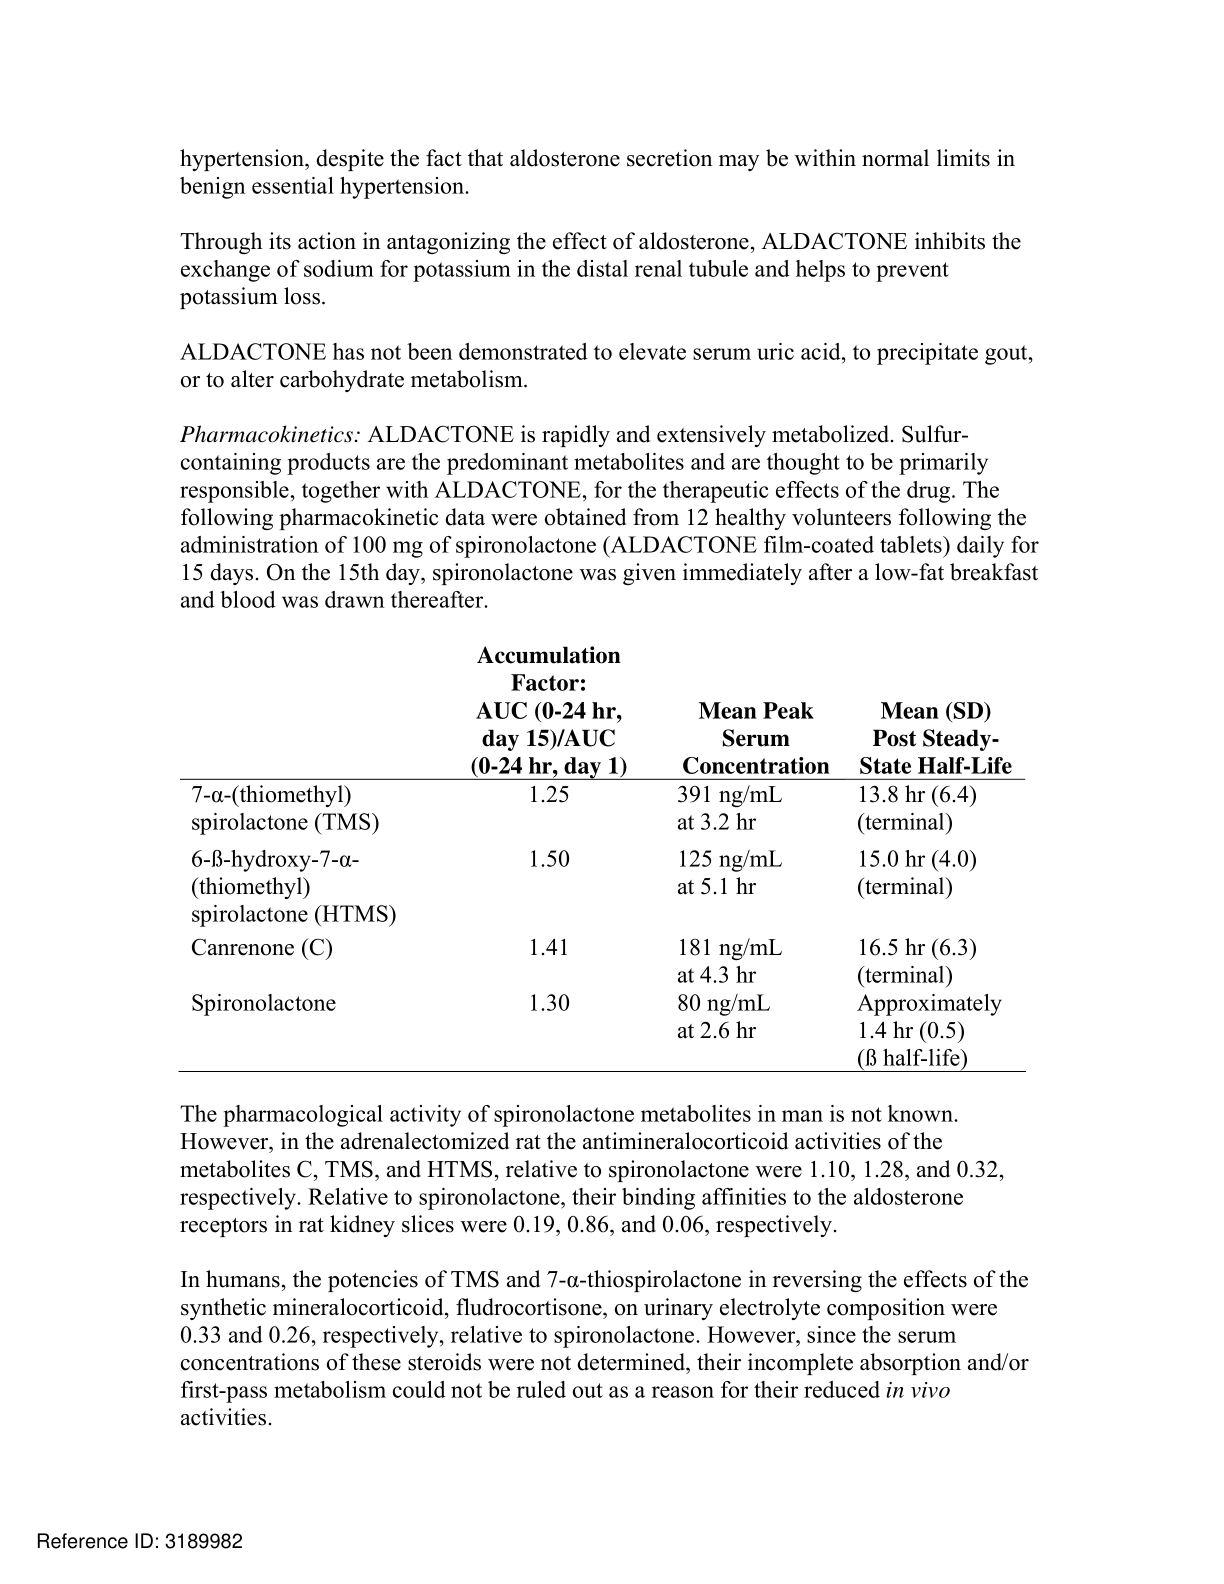partial_lined: (176, 639, 1027, 1077)
